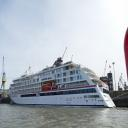cruises: (9, 57, 118, 111)
